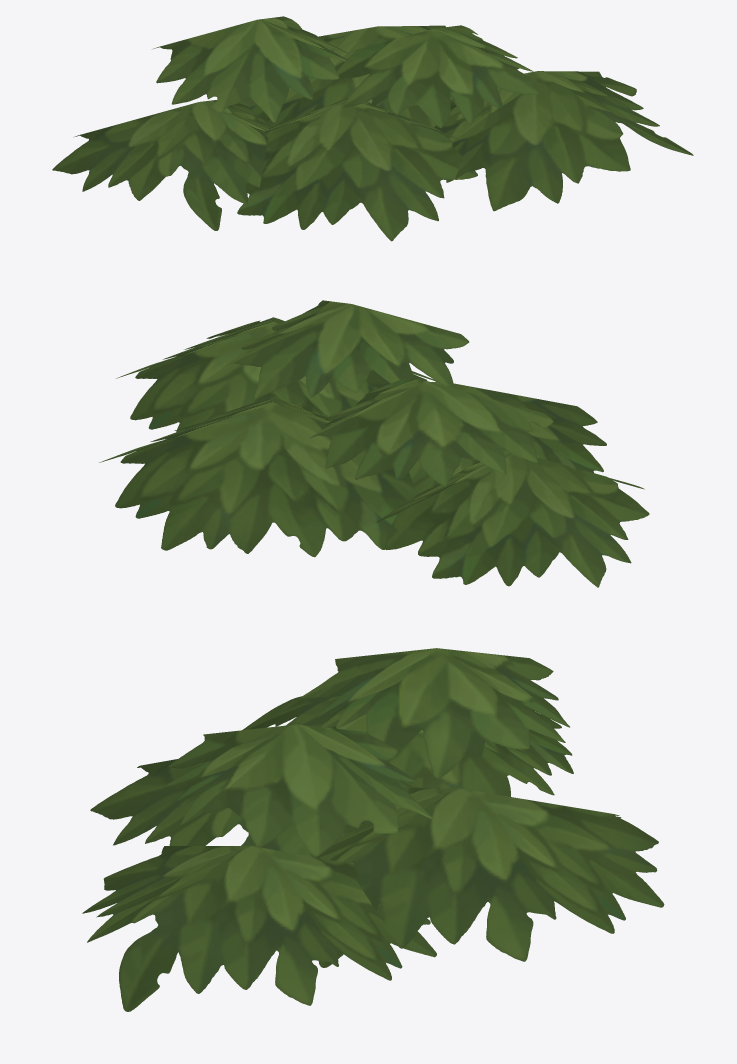
The model's file is Na_Bush_02.FBX.
3 renders of one model, top to bottom at view 1: azimuth 30°, elevation 25°; view 2: azimuth 150°, elevation 25°; view 3: azimuth 270°, elevation 25°, orthographic. The views are drawn at different scales.
Parts seen in each view (by area): view 1: Na_Bush_02; view 2: Na_Bush_02; view 3: Na_Bush_02.
Part boxes in pixels (x1,y1,x2,y2): Na_Bush_02: (52, 16, 693, 241); Na_Bush_02: (99, 300, 649, 587); Na_Bush_02: (82, 648, 664, 1011).
Size of the model in its own units: 2.28 by 0.5078 by 1.94.
